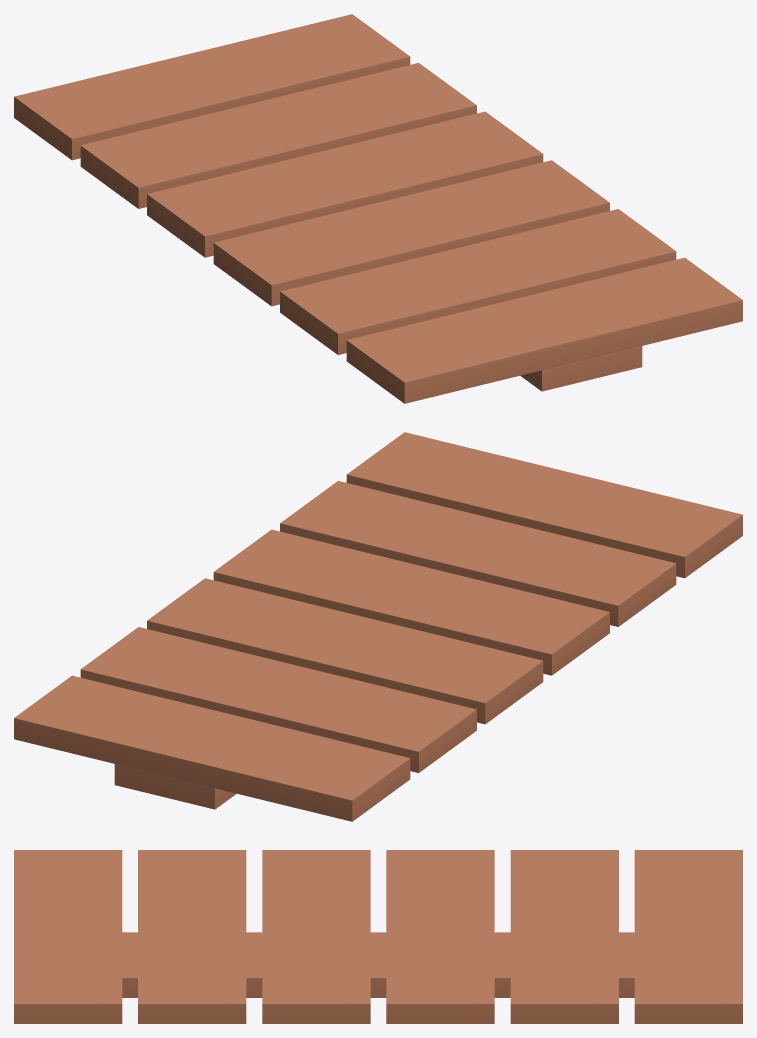
Rendered from planks-half.glb.
3 views of the same model, one above another, from view 1: azimuth 30°, elevation 25°; view 2: azimuth 150°, elevation 25°; view 3: azimuth 270°, elevation 25° (orthographic). The views are drawn at different scales.
Visible parts, largest first — view 1: planks-half; view 2: planks-half; view 3: planks-half.
Boxes of the visible parts, x1,y1,x2,y2 form: planks-half: [14, 14, 742, 403]; planks-half: [14, 432, 742, 821]; planks-half: [14, 850, 742, 1023].
Size of the model in its own units: 0.5 by 0.06 by 1.
Materials: 1 (1 with a texture image).
